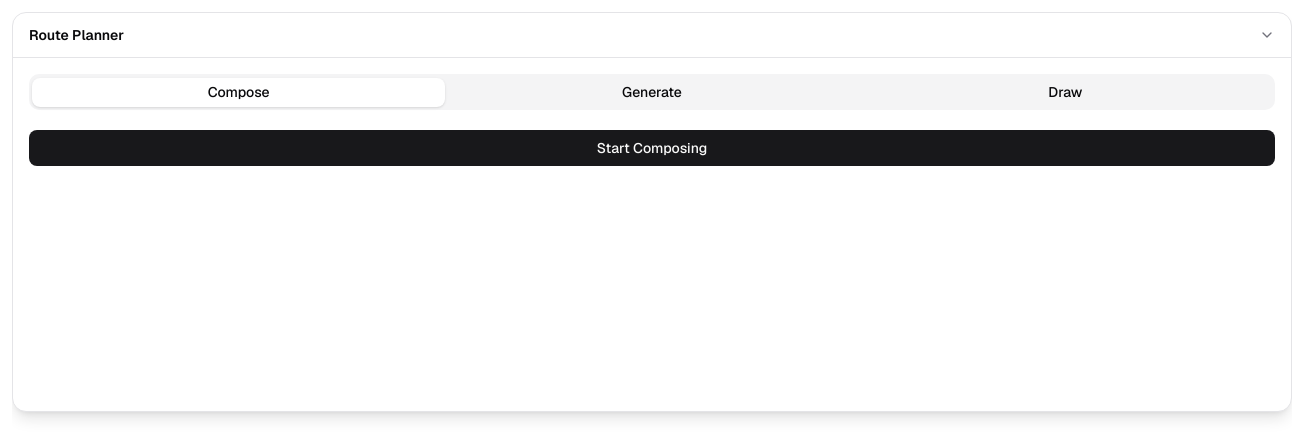
it: RoutePlanner › hides end place select on loop mode
Click the tab "Generate" at [652, 92], box [445,78,859,106]
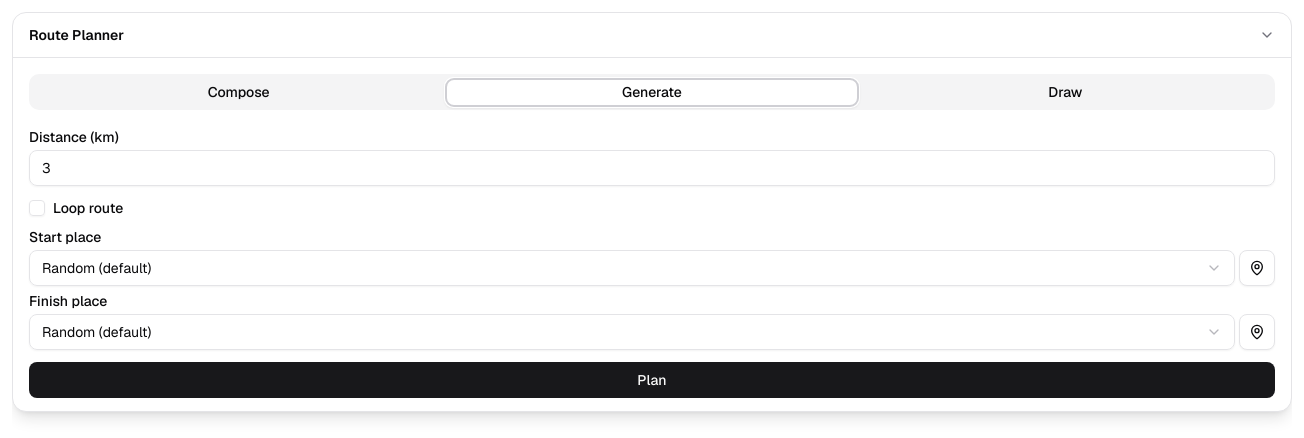
Result: the text "Finish place" is shown at [29,292,107,310]
# Toggle to loop
Click the text "Loop route" at [88, 208], box [53,198,123,218]
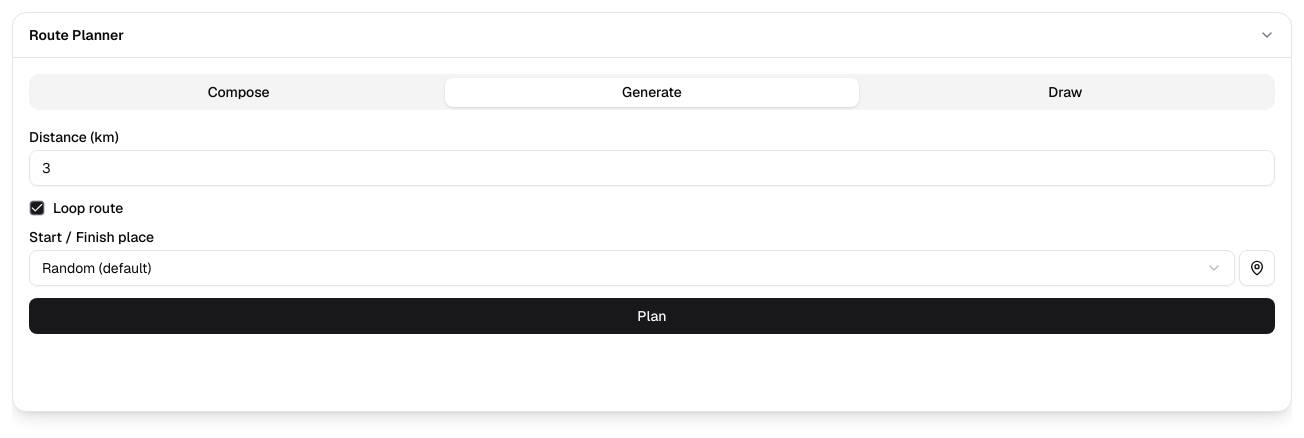
Result: the text "Start / Finish place" is shown at [29,228,154,246]
